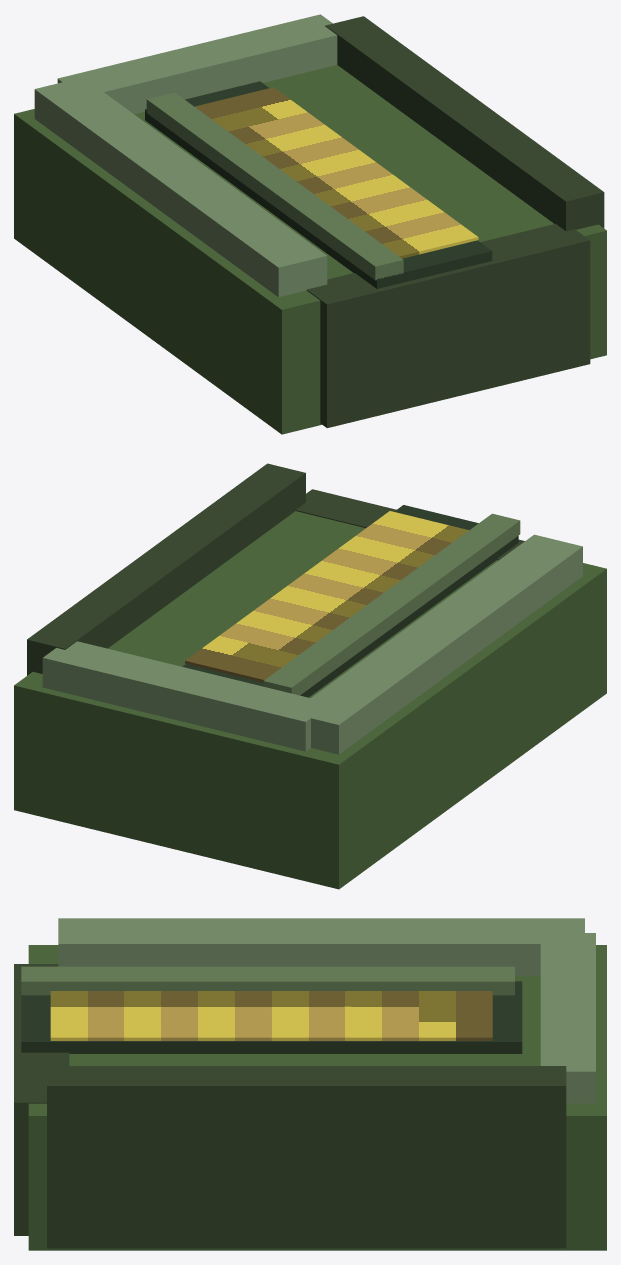
Rendered from CMU3DFieldMagazineFoamBoxCloud.glb.
The picture shows the model from 3 angles, top to bottom: view 1: azimuth 30°, elevation 25°; view 2: azimuth 150°, elevation 25°; view 3: azimuth 270°, elevation 25°; orthographic projection. The views are drawn at different scales.
Visible parts, largest first — view 1: green foam box casing, bottom case shoe, raised left case ridge, right folded case side, original full-count strip, raised top case ridge, left strip rim, display strip recessed bed; view 2: green foam box casing, raised left case ridge, right folded case side, original full-count strip, raised top case ridge, left strip rim, display strip recessed bed, bottom case shoe; view 3: right folded case side, raised left case ridge, original full-count strip, green foam box casing, left strip rim, display strip recessed bed, raised top case ridge, bottom case shoe.
Boxes of the visible parts, bbox=[...] form: green foam box casing: bbox=[14, 65, 606, 434]; bottom case shoe: bbox=[306, 224, 590, 428]; raised left case ridge: bbox=[34, 77, 327, 297]; right folded case side: bbox=[325, 16, 604, 231]; original full-count strip: bbox=[194, 87, 478, 258]; raised top case ridge: bbox=[57, 14, 337, 114]; left strip rim: bbox=[146, 92, 403, 280]; display strip recessed bed: bbox=[145, 81, 492, 288]; green foam box casing: bbox=[14, 511, 606, 889]; raised left case ridge: bbox=[294, 534, 582, 754]; right folded case side: bbox=[27, 463, 305, 675]; original full-count strip: bbox=[185, 511, 468, 682]; raised top case ridge: bbox=[42, 641, 330, 751]; left strip rim: bbox=[263, 513, 520, 695]; display strip recessed bed: bbox=[182, 505, 518, 697]; bottom case shoe: bbox=[295, 489, 524, 560]; right folded case side: bbox=[47, 1066, 566, 1248]; raised left case ridge: bbox=[58, 918, 584, 975]; original full-count strip: bbox=[50, 991, 492, 1040]; green foam box casing: bbox=[28, 945, 606, 1250]; left strip rim: bbox=[21, 966, 514, 995]; display strip recessed bed: bbox=[21, 981, 522, 1053]; raised top case ridge: bbox=[540, 933, 595, 1103]; bottom case shoe: bbox=[14, 964, 69, 1235].
Bounding box in the file's own units: 0.35 × 0.157 × 0.5031.
Materials: 6 (1 with a texture image).
